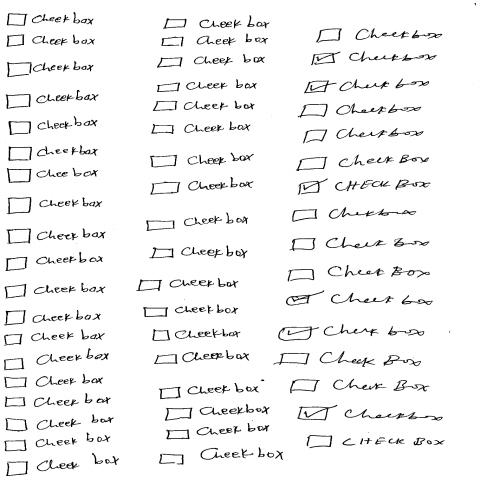Check Box: (297, 403, 444, 424), (277, 351, 422, 370), (296, 153, 431, 173), (288, 265, 434, 283), (285, 291, 435, 308), (277, 325, 426, 342), (297, 178, 430, 196), (6, 457, 119, 478), (310, 50, 437, 68), (290, 378, 430, 394), (302, 127, 426, 145), (291, 206, 418, 223), (289, 237, 432, 252), (298, 102, 423, 119), (307, 435, 446, 450), (304, 79, 432, 95), (159, 448, 284, 464), (5, 353, 109, 372), (315, 28, 445, 43), (166, 424, 272, 442), (146, 215, 251, 233), (6, 228, 108, 246), (163, 404, 270, 421), (8, 197, 103, 216), (7, 117, 100, 136), (8, 144, 100, 163), (5, 436, 114, 452), (163, 16, 270, 32), (6, 255, 106, 272), (149, 153, 255, 169), (3, 283, 108, 299), (7, 92, 100, 110), (5, 418, 116, 433), (5, 309, 102, 326), (152, 180, 253, 196), (138, 277, 239, 293), (6, 61, 95, 79), (149, 246, 249, 262), (156, 56, 267, 70), (155, 80, 258, 95), (150, 122, 253, 137), (4, 332, 105, 347), (6, 12, 95, 29), (5, 168, 99, 184), (160, 385, 260, 400), (5, 395, 112, 409), (3, 376, 105, 390), (161, 35, 269, 48), (5, 34, 97, 49), (142, 305, 240, 319), (153, 100, 257, 113), (151, 328, 241, 342), (156, 352, 250, 365)
